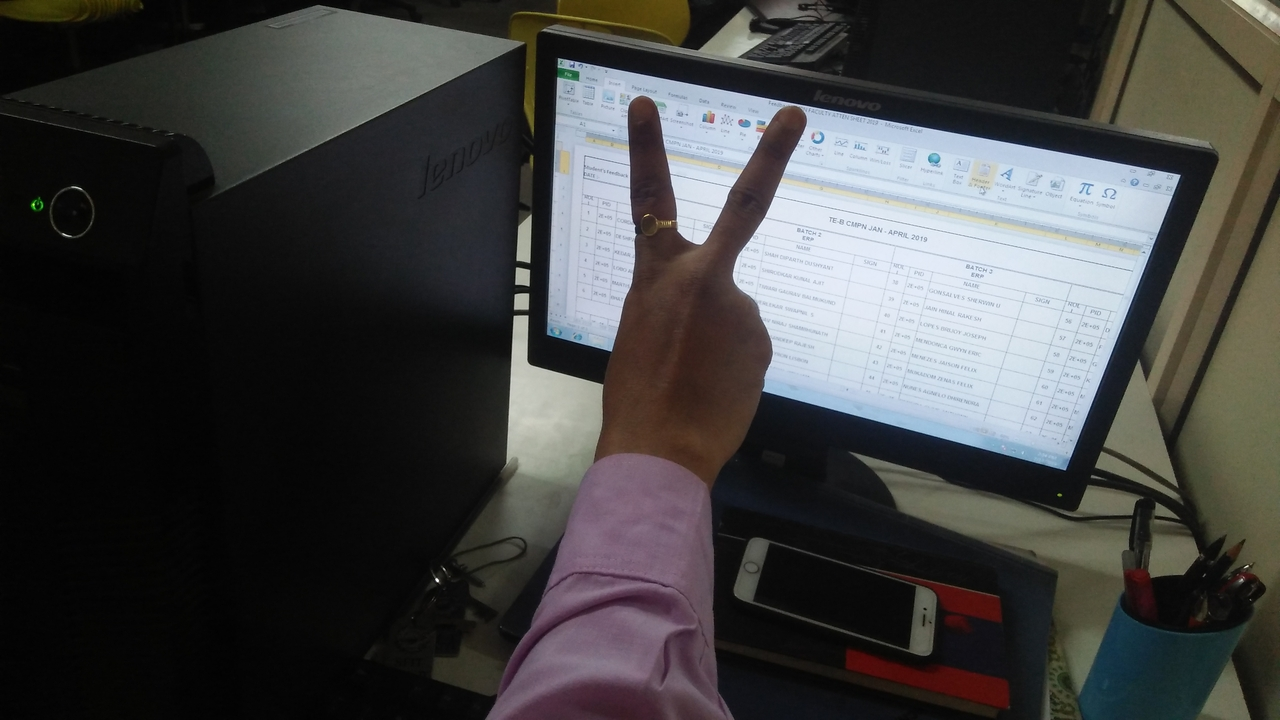fingertip: (752, 96, 816, 146), (620, 86, 668, 126)
